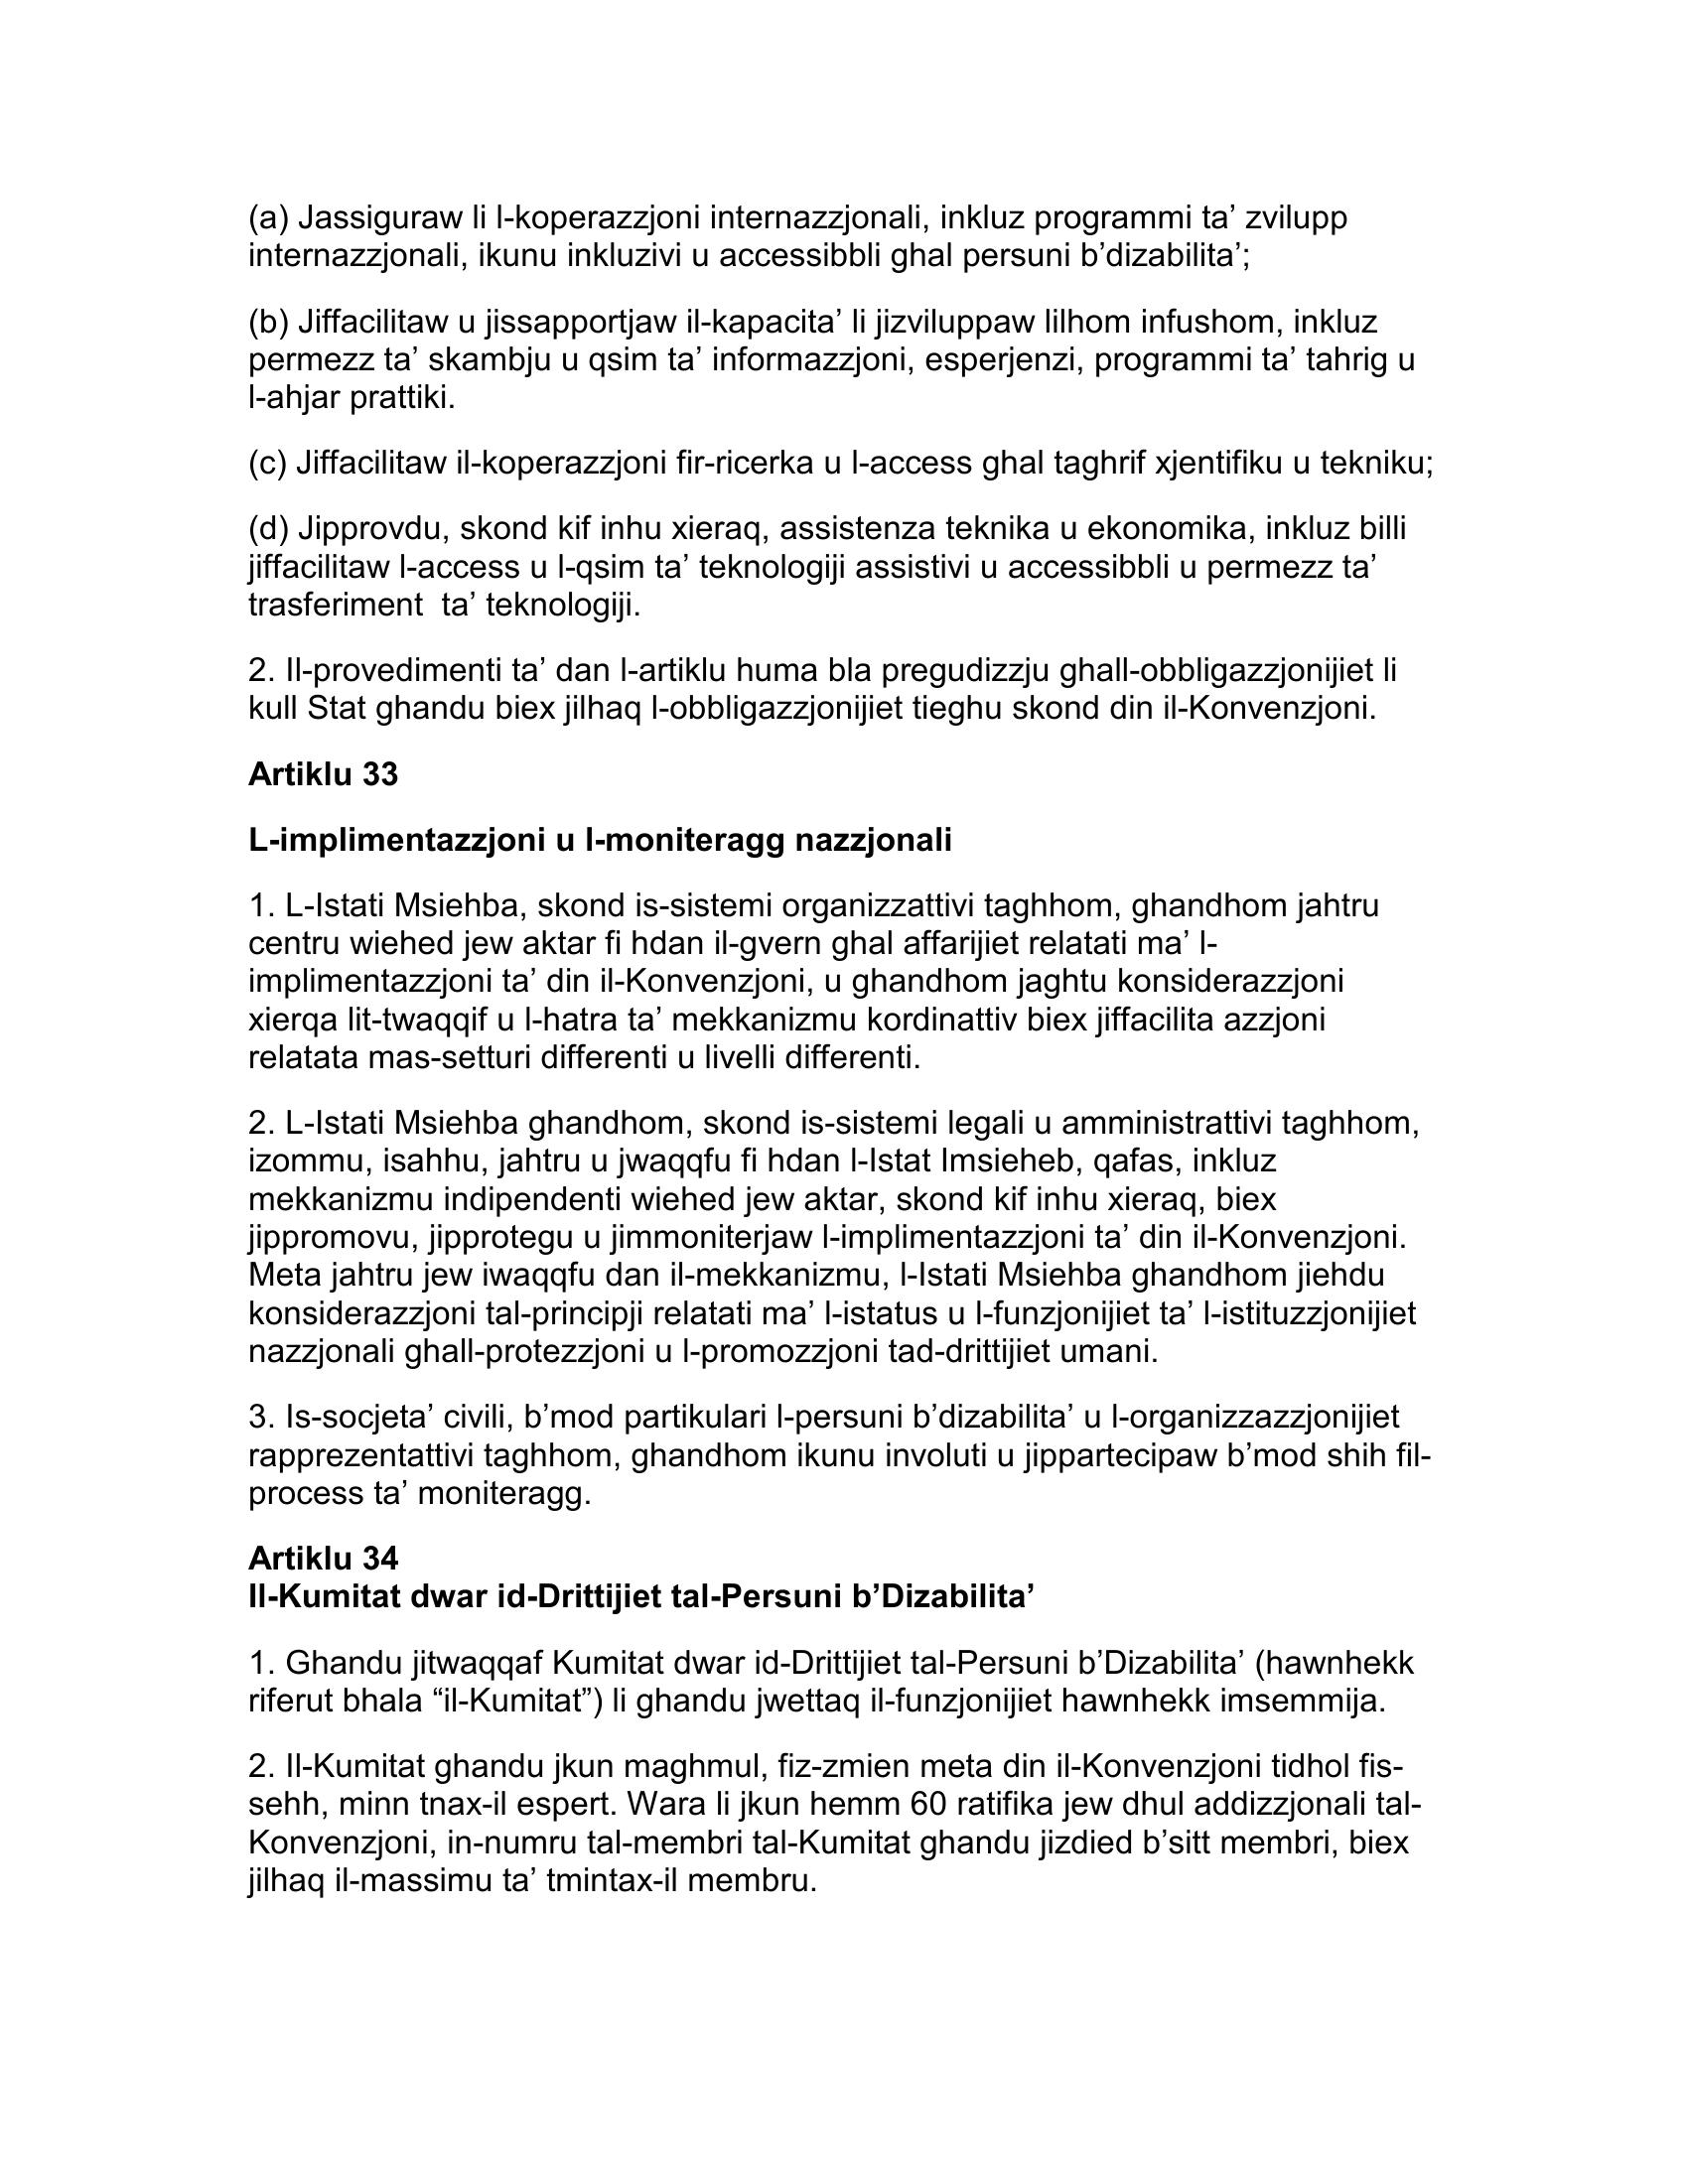text: (218, 181, 1450, 1909)
